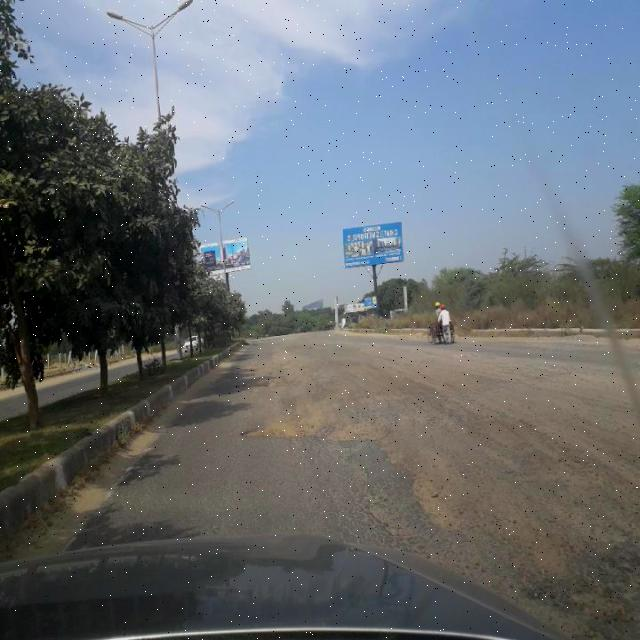D20: (313, 450, 631, 628), (296, 438, 519, 582)
D40: (238, 398, 391, 452), (228, 343, 358, 397), (411, 457, 461, 536), (365, 493, 403, 543)
